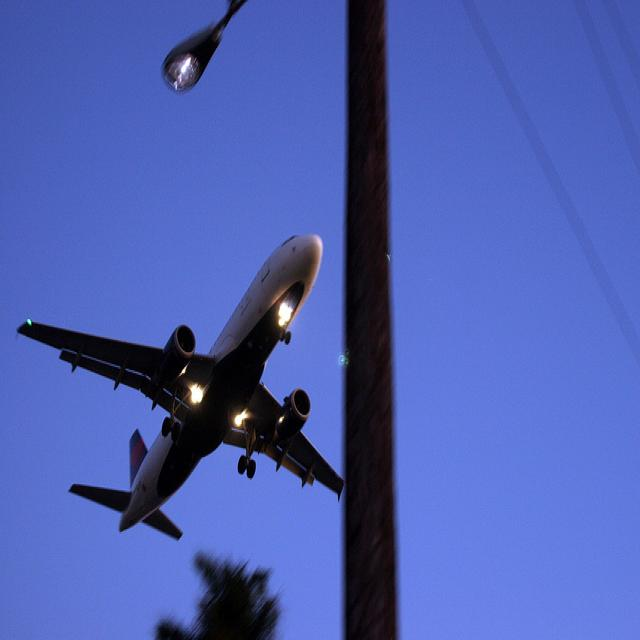airplane: (15, 231, 344, 544)
